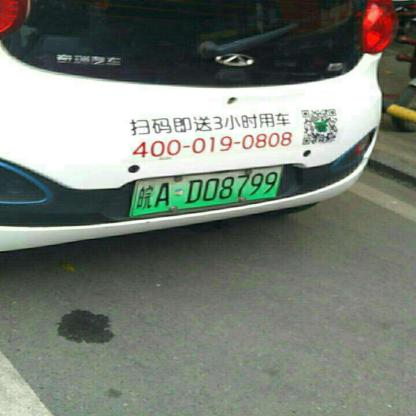lp: (129, 166, 282, 214)
